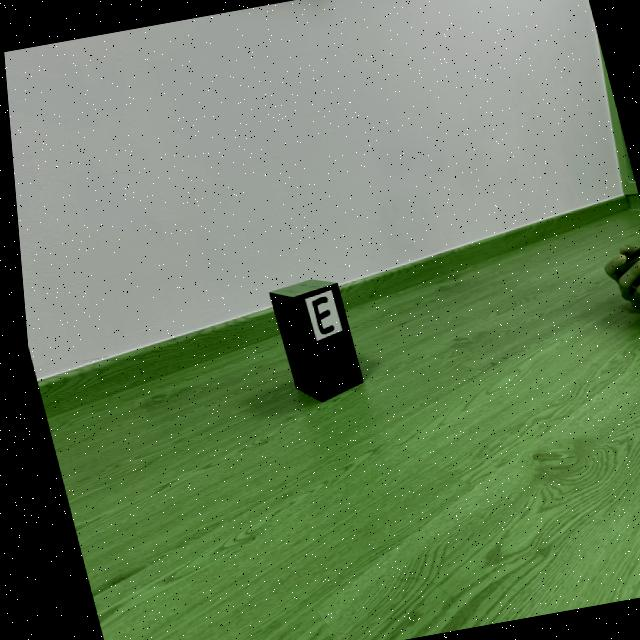E: (306, 295, 328, 335)
